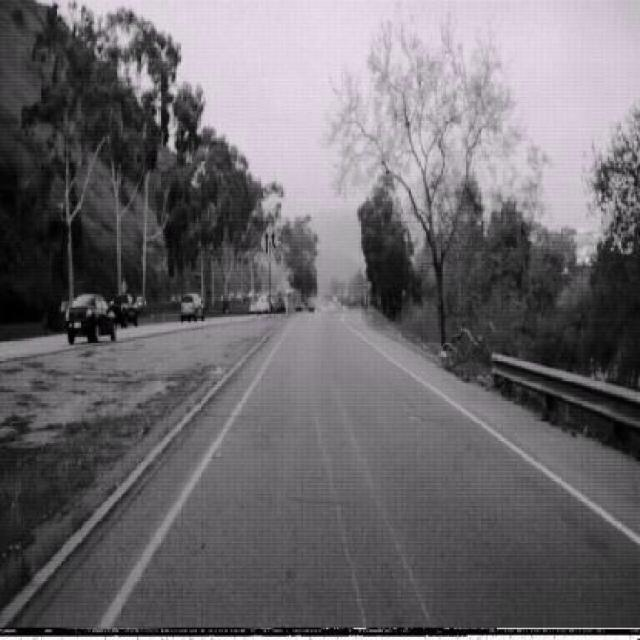addedLane: (260, 222, 280, 262)
